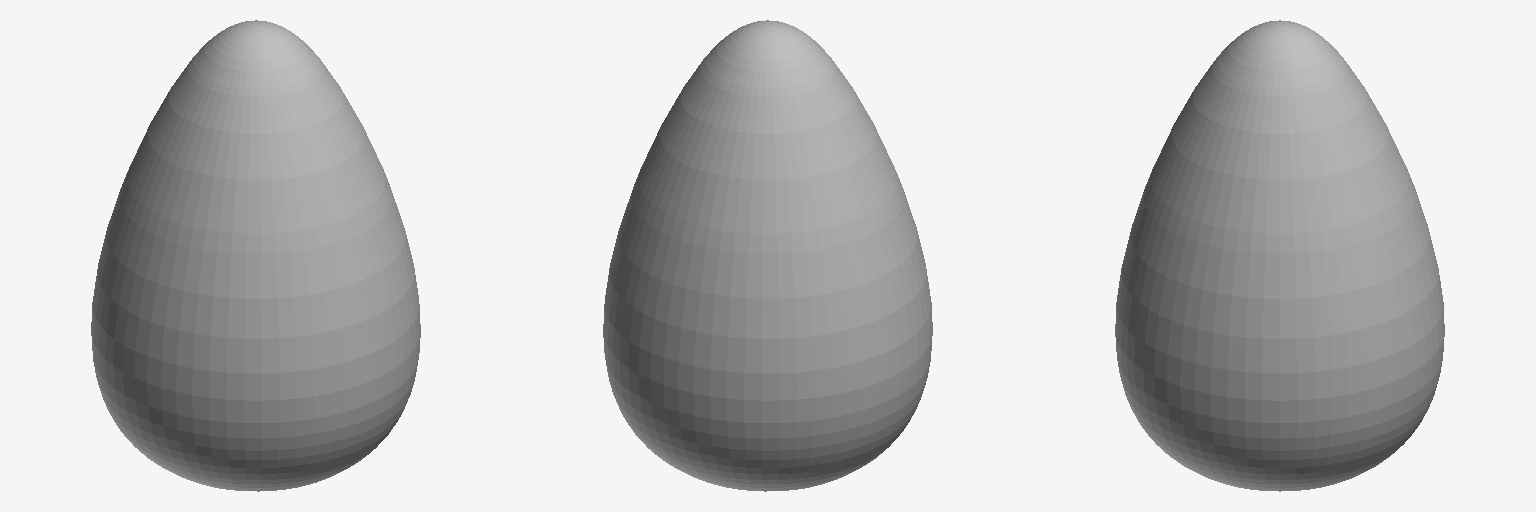
The robot description file, URDF, robot "root":
<robot name="root">
  <link name="link_Egg v2_convex_piece_0">
    <inertial>
      <origin xyz="0 0 0" rpy="0 0 0"/>
      <mass value="1.94E-01"/>
      <inertia ixx="1.49E-04" ixy="-3.40E-22" ixz="3.40E-22" iyy="1.49E-04" iyz="3.40E-22" izz="9.47E-05"/>
    </inertial>
    <visual>
      <origin xyz="0 0 0" rpy="0 0 0"/>
      <geometry>
        <mesh filename="Egg v2_convex_piece_0.obj" scale="1.0000E+00 1.0000E+00 1.0000E+00"/>
      </geometry>
      <material name="">
        <color rgba="7.50E-01 7.50E-01 7.50E-01 1"/>
      </material>
    </visual>
    <collision>
      <origin xyz="0 0 0" rpy="0 0 0"/>
      <geometry>
        <mesh filename="Egg v2_convex_piece_0.obj" scale="1.0000E+00 1.0000E+00 1.0000E+00"/>
      </geometry>
    </collision>
  </link>
</robot>

--- Facts derived from the render (not from the file) ---
3 views of the same robot in one strip: view 1: azimuth 30°, elevation 25°; view 2: azimuth 150°, elevation 25°; view 3: azimuth 270°, elevation 25° (orthographic).
Model root with 1 links and 0 joints (none), rooted at link_Egg v2_convex_piece_0, posed every joint at zero.
Links seen in each view (by area): view 1: link_Egg v2_convex_piece_0; view 2: link_Egg v2_convex_piece_0; view 3: link_Egg v2_convex_piece_0.
Boxes of the visible links, x1,y1,x2,y2 form: link_Egg v2_convex_piece_0: (91,20,420,491); link_Egg v2_convex_piece_0: (603,20,932,491); link_Egg v2_convex_piece_0: (1115,20,1444,491).
Size in the robot's own frame: 0.0706 by 0.0705 by 0.1005 metres.
1 mesh visuals loaded from 1 distinct referenced files (1 OBJ).
